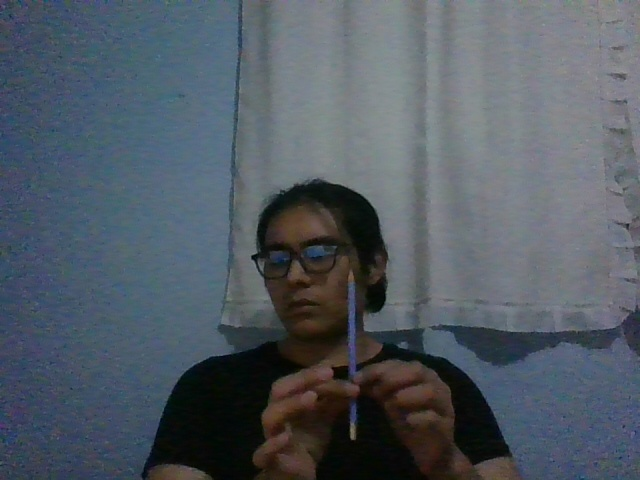lapiz: (348, 266, 357, 440)
